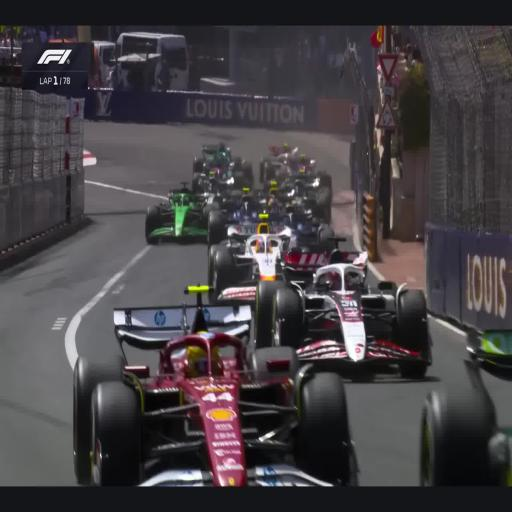f1_car: (73, 285, 358, 486), (255, 250, 431, 378), (419, 330, 512, 486), (208, 221, 346, 303), (208, 220, 291, 303), (145, 181, 213, 243), (263, 174, 332, 223), (193, 143, 253, 191), (341, 252, 367, 273), (259, 213, 267, 216), (260, 214, 266, 216)
